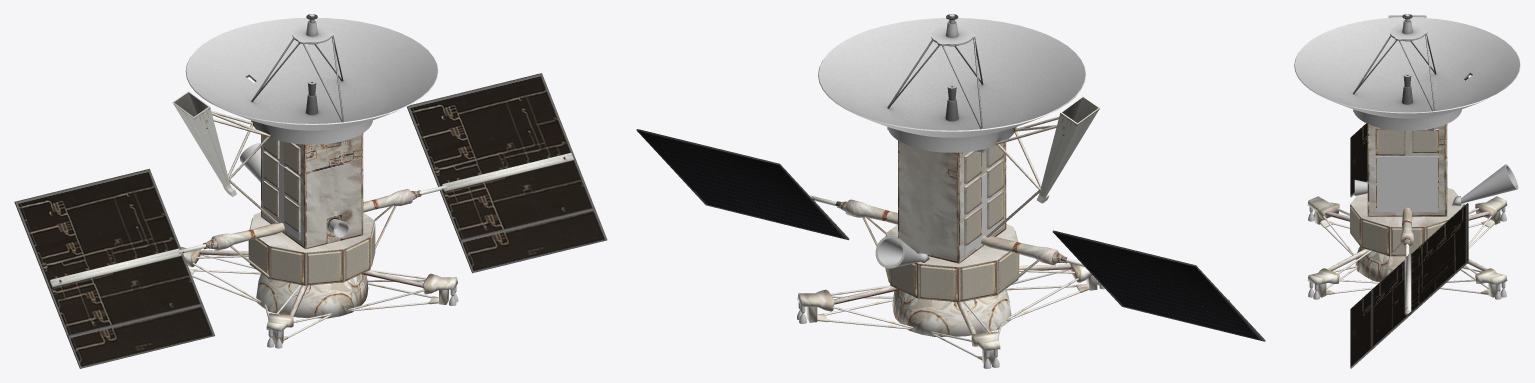
Rendered from magellan.dae.
3 renders of one model, left to right at view 1: azimuth 30°, elevation 25°; view 2: azimuth 150°, elevation 25°; view 3: azimuth 270°, elevation 25°, orthographic. The views are drawn at different scales.
Parts seen in each view (by area): view 1: tex_01, dish_etc, _root, aluminum_002, aluminum; view 2: tex_01, dish_etc, shiny_panel, aluminum, _root; view 3: tex_01, dish_etc, _root, aluminum, aluminum_002.
Part boxes in pixels (bbox=[...]): tex_01: bbox=[14, 73, 607, 368]; dish_etc: bbox=[185, 14, 438, 144]; _root: bbox=[265, 163, 300, 240]; aluminum_002: bbox=[267, 219, 458, 348]; aluminum: bbox=[240, 143, 260, 182]; tex_01: bbox=[636, 96, 1265, 364]; dish_etc: bbox=[818, 14, 1086, 152]; shiny_panel: bbox=[637, 130, 1264, 341]; aluminum: bbox=[875, 235, 922, 268]; _root: bbox=[964, 172, 1001, 254]; tex_01: bbox=[1307, 15, 1507, 368]; dish_etc: bbox=[1294, 14, 1520, 131]; _root: bbox=[1377, 156, 1437, 211]; aluminum: bbox=[1461, 164, 1518, 203]; aluminum_002: bbox=[1308, 180, 1506, 299].
Size of the model in its own units: 8.9 by 3.7 by 4.53.
Materials: 4 (3 with a texture image).
